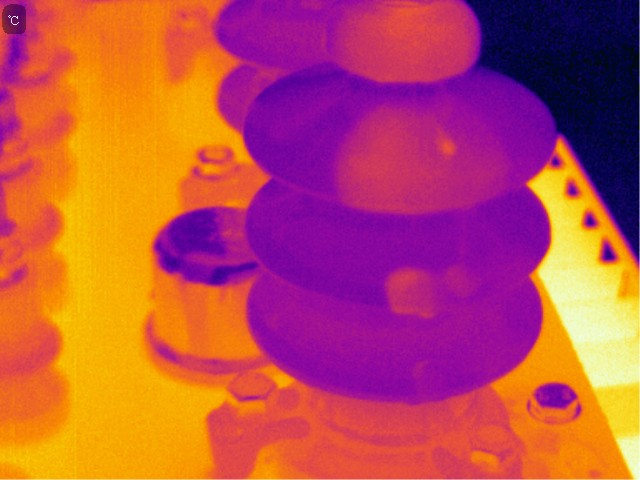Oil: (329, 103, 512, 214), (328, 1, 481, 82), (381, 266, 440, 323), (445, 264, 480, 297)
